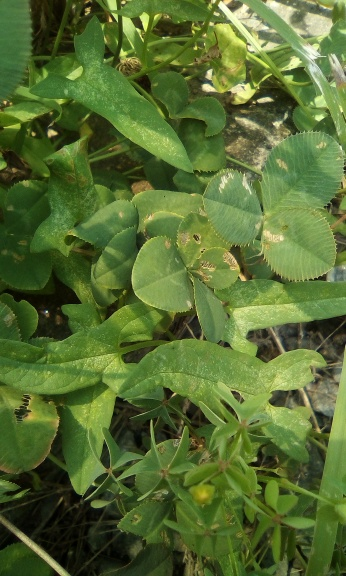4leaf: (130, 211, 239, 344)
